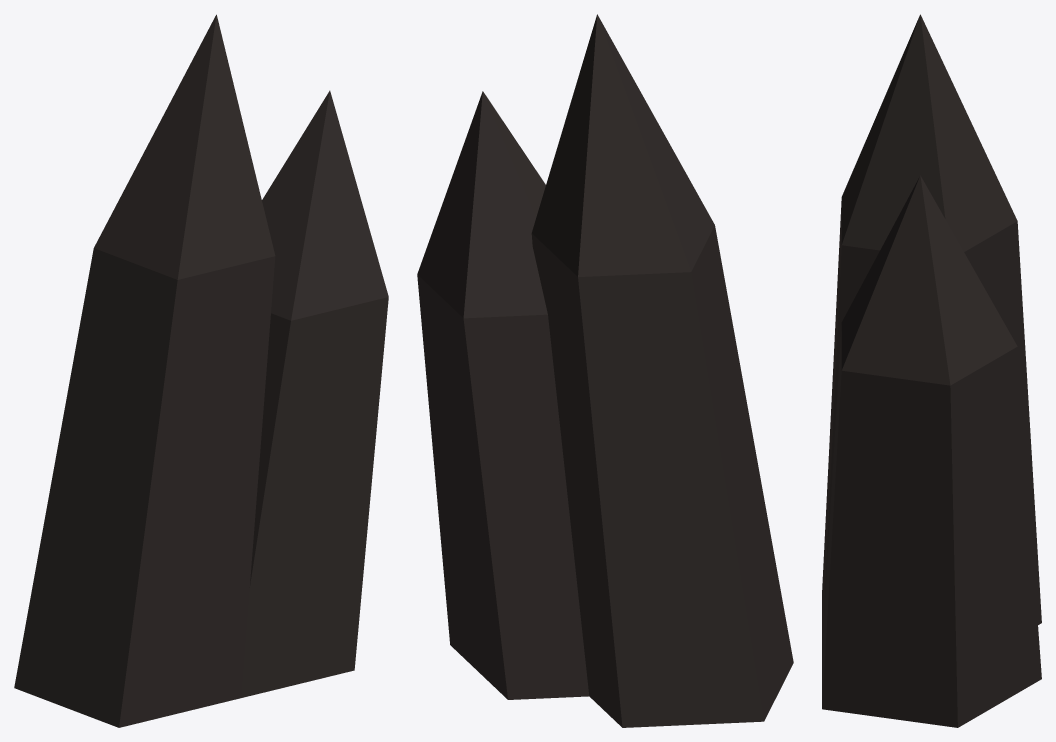
Rendered from RockSpire_A.fbx.
3 renders of one model, left to right at view 1: azimuth 30°, elevation 25°; view 2: azimuth 150°, elevation 25°; view 3: azimuth 270°, elevation 25°, orthographic.
Visible parts, largest first — view 1: RockSpire_A; view 2: RockSpire_A; view 3: RockSpire_A.
Part boxes in pixels (x1,y1,x2,y2): RockSpire_A: (14, 14, 388, 727); RockSpire_A: (417, 14, 793, 727); RockSpire_A: (822, 14, 1041, 727).
Size of the model in its own units: 0.9334 by 1.65 by 0.5051.
1 material, 1 textured.
